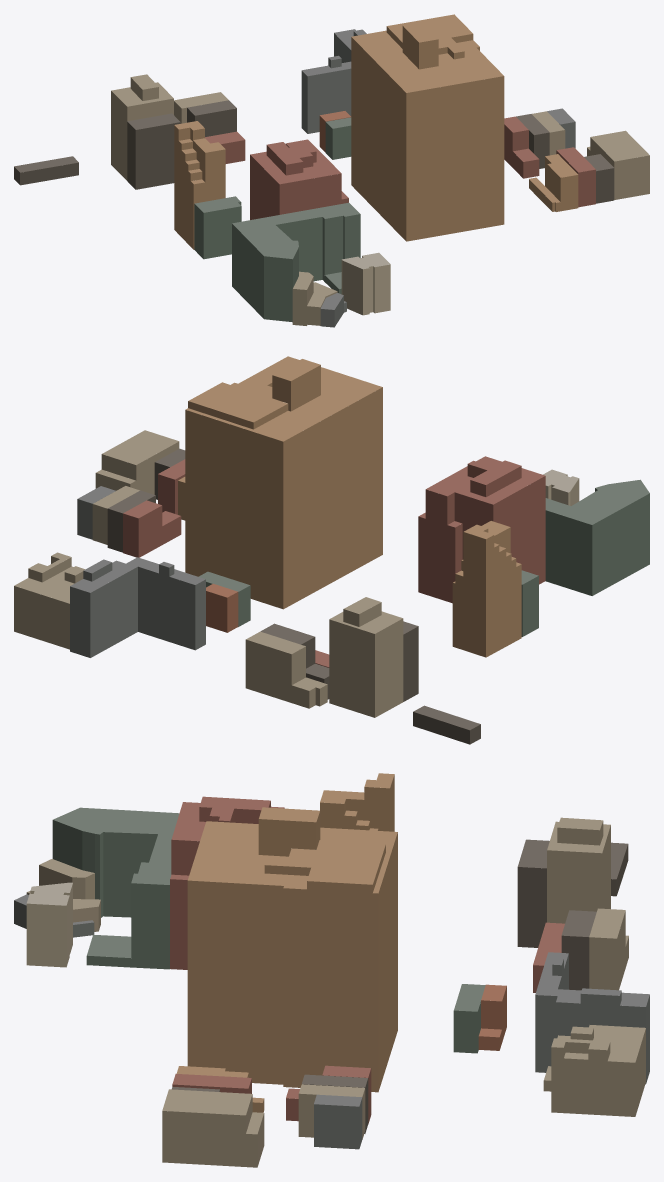
Rendered from tile--5_3.glb.
3 renders of one model, top to bottom at view 1: azimuth 30°, elevation 25°; view 2: azimuth 150°, elevation 25°; view 3: azimuth 270°, elevation 25°, orthographic. The views are drawn at different scales.
Visible parts, largest first — view 1: wall, roof; view 2: wall, roof; view 3: wall, roof.
Part boxes in pixels (box(x1,y1,x2,y2)): wall: box(14, 26, 649, 327); roof: box(14, 14, 649, 309); wall: box(14, 365, 649, 744); roof: box(14, 356, 649, 730); wall: box(14, 775, 649, 1167); roof: box(14, 773, 649, 1134).
Bounding box in the file's own units: 196 × 69.71 × 171.
